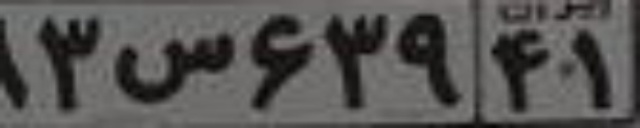1: (564, 24, 614, 108)
3: (35, 15, 100, 111), (327, 9, 386, 109)
4: (487, 28, 550, 111)
6: (244, 11, 317, 108)
8: (1, 19, 28, 109)
9: (394, 11, 462, 105)
sin: (110, 29, 236, 102)
